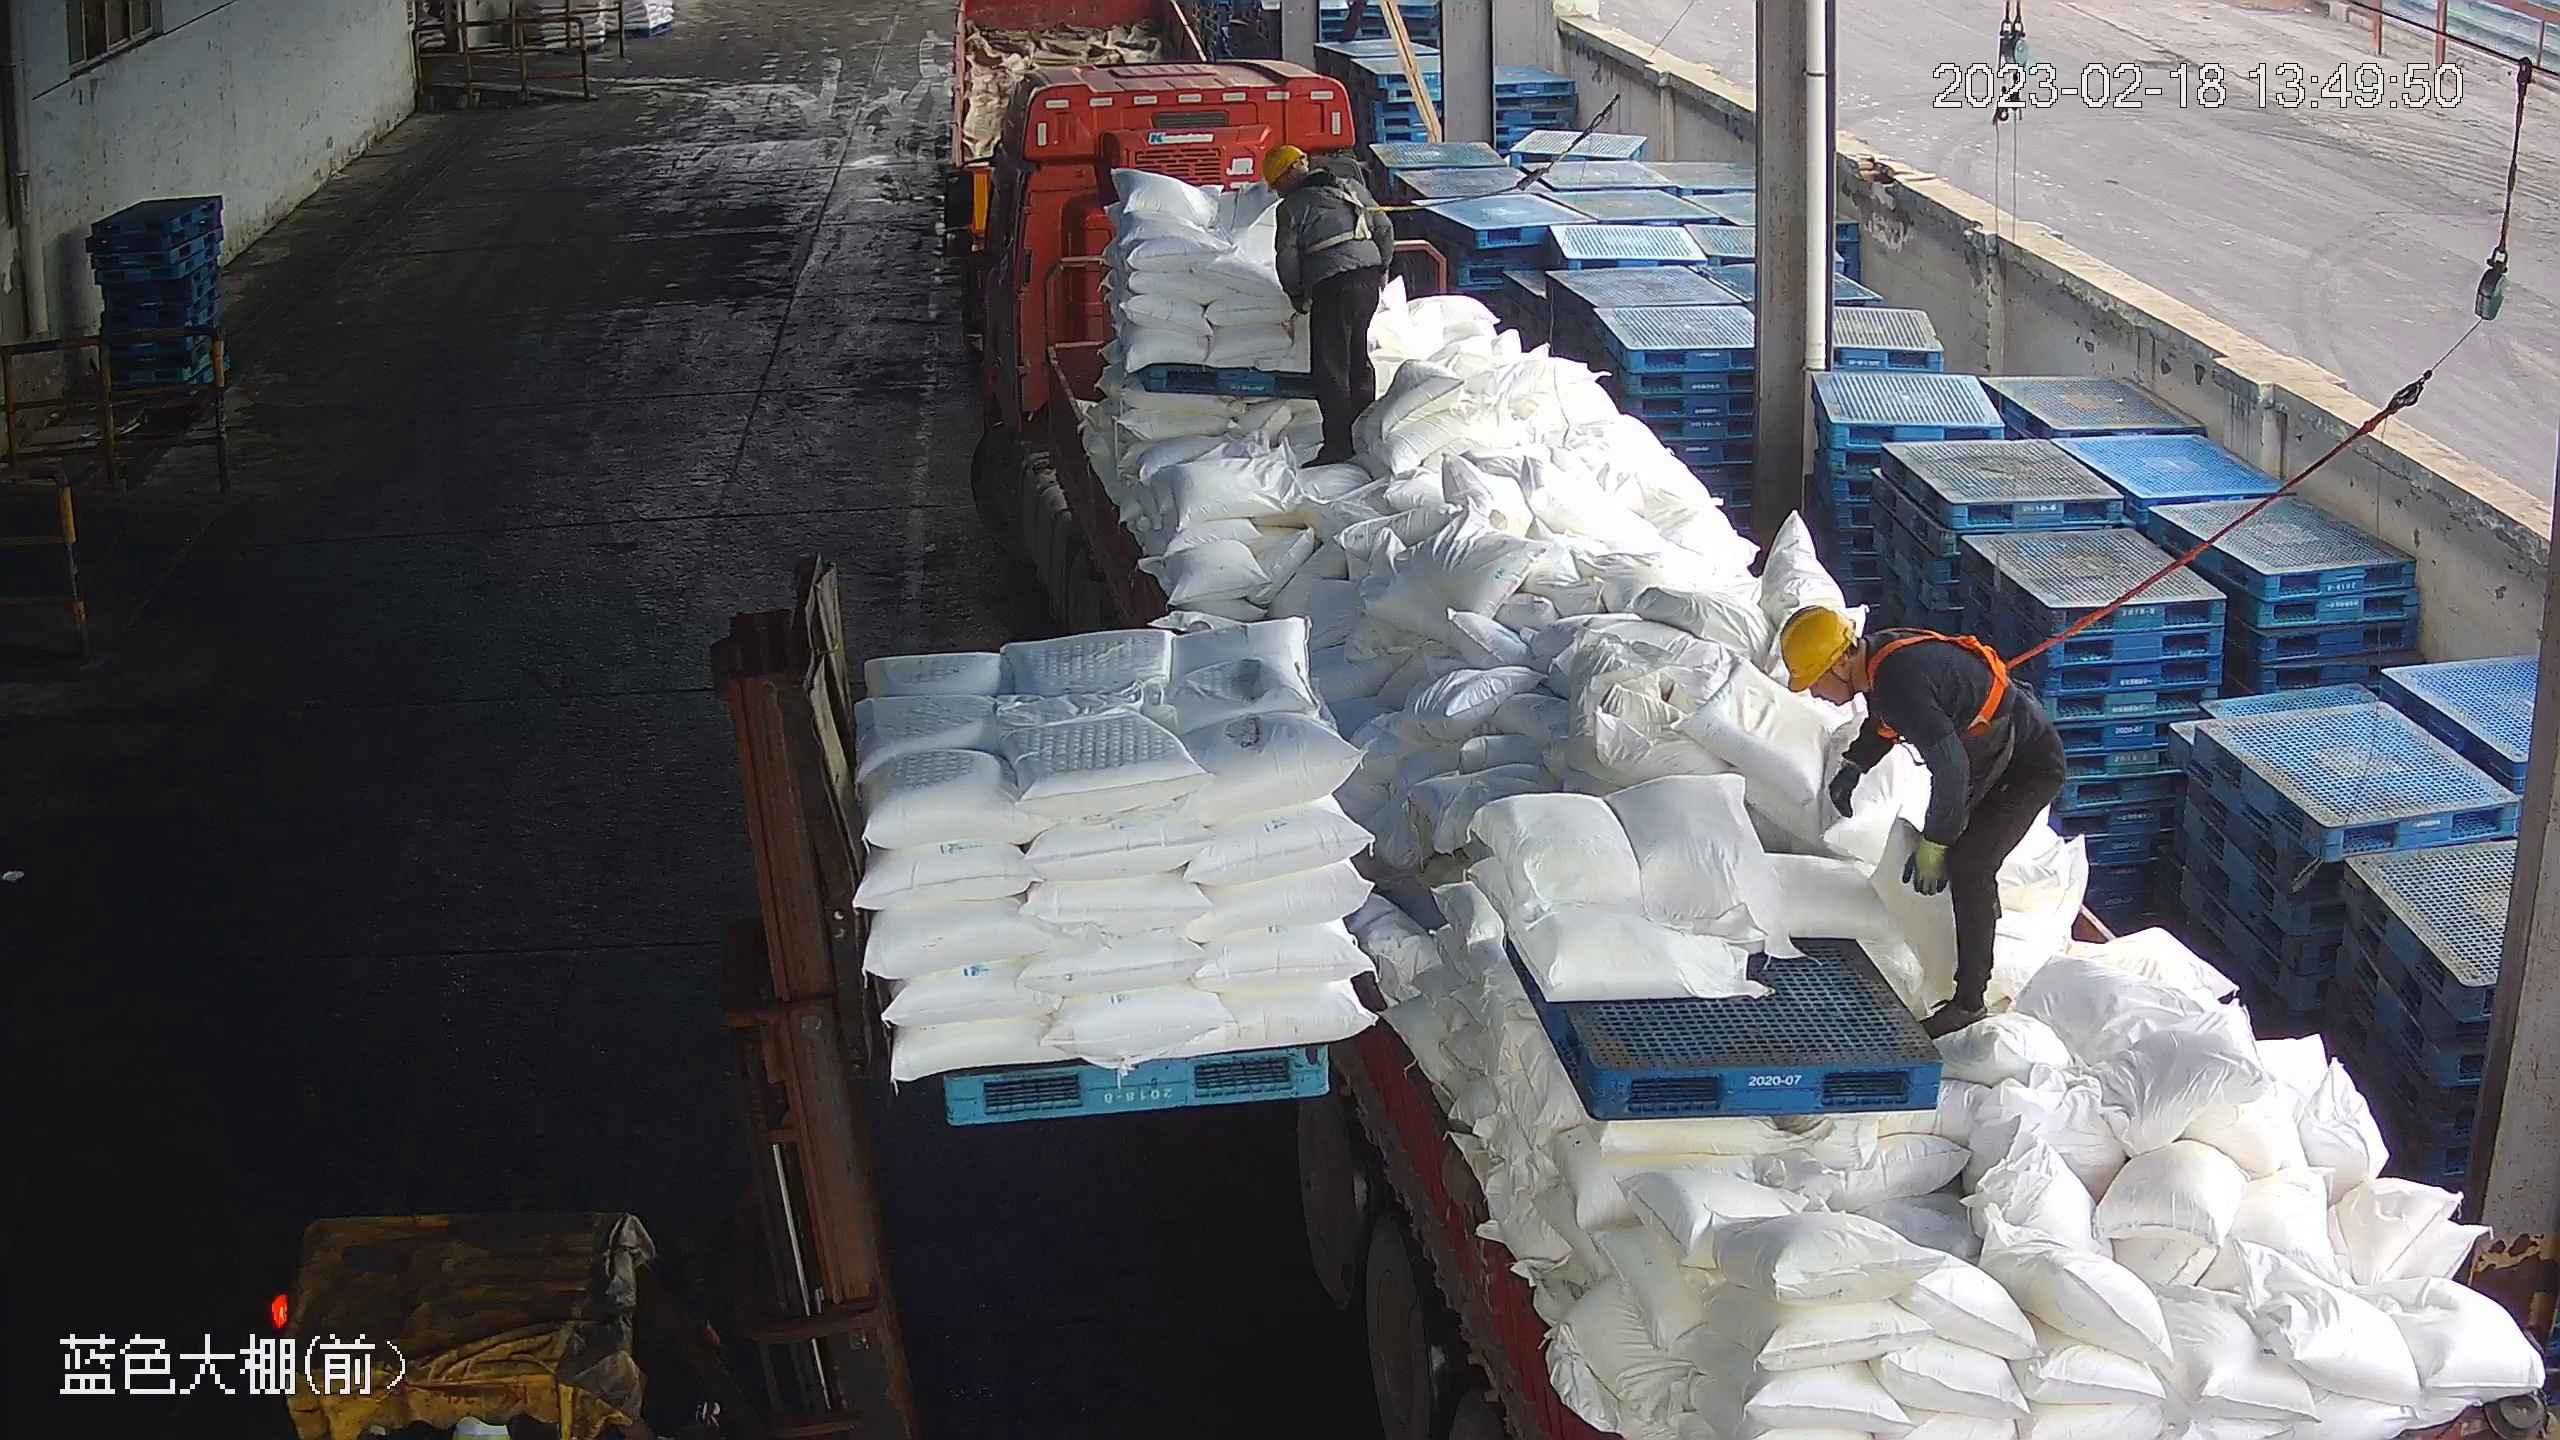belt: (1862, 618, 2025, 744), (1302, 170, 1393, 251)
head: (1777, 600, 1954, 740), (1261, 140, 1379, 231)
helmet: (1775, 600, 1855, 694), (1257, 140, 1307, 187)
people: (1778, 599, 2069, 1047), (1257, 132, 1392, 462)
truck: (950, 51, 2559, 1440)
